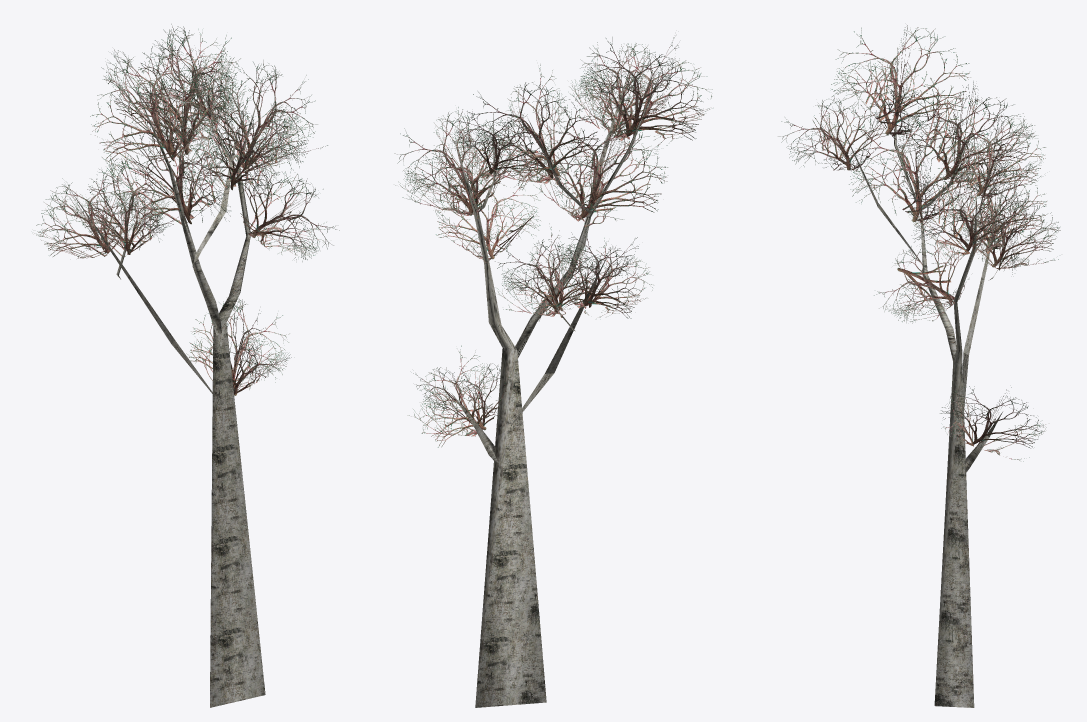
Rendered from decd_whitebirchtreebranches_a2_l1.fbx.
3 renders of one model, left to right at view 1: azimuth 30°, elevation 25°; view 2: azimuth 150°, elevation 25°; view 3: azimuth 270°, elevation 25°, orthographic. The views are drawn at different scales.
Parts seen in each view (by area): view 1: mesh_node; view 2: mesh_node; view 3: mesh_node.
Boxes of the visible parts, x1,y1,x2,y2 form: mesh_node: [34, 24, 339, 707]; mesh_node: [394, 37, 712, 707]; mesh_node: [778, 25, 1060, 707].
Size of the model in its own units: 7.8 by 17.85 by 7.85.
